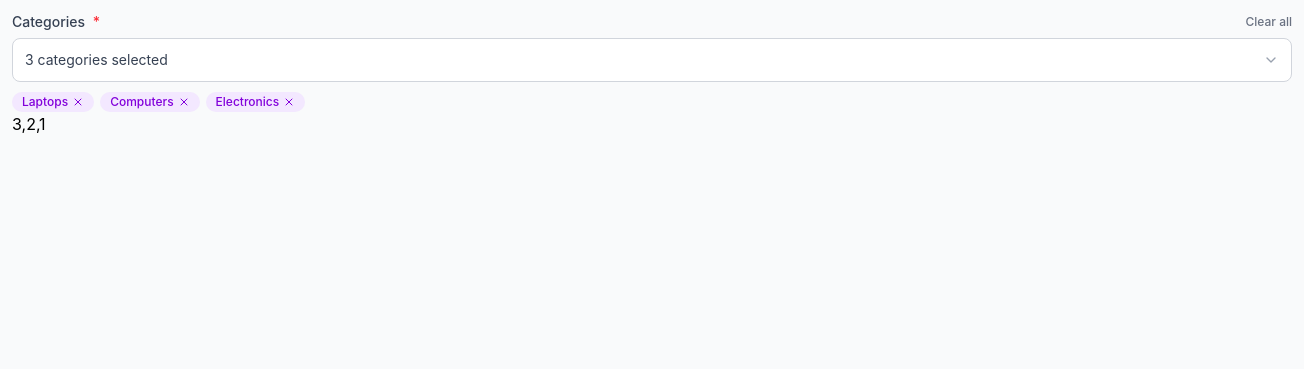
Scenario: CategorySelector tree › removes descendants when a parent is unchecked
Later steps or results of the test are not shown.
Click the button "3 categories selected": (96, 60) [12,38,1292,82]
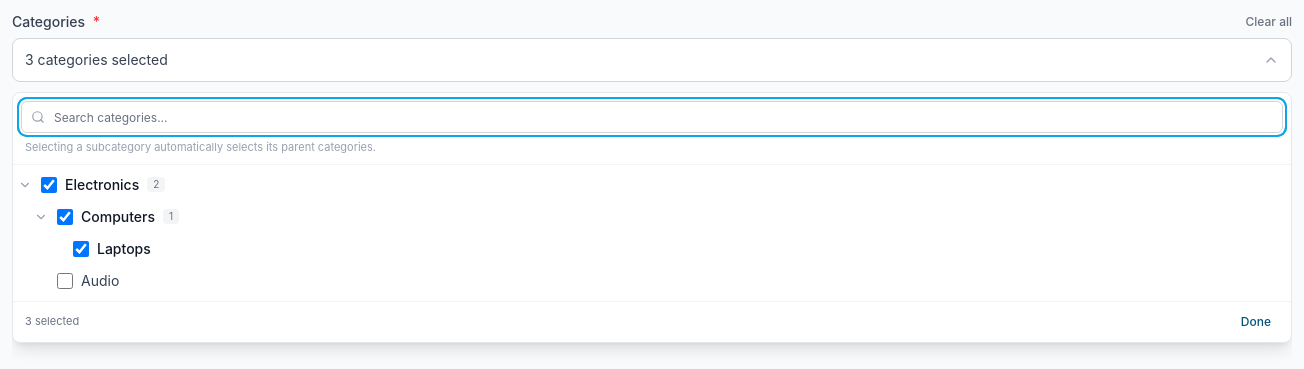
Expected: the checkbox labelled "Electronics 2" is shown, [41,176,57,192]
